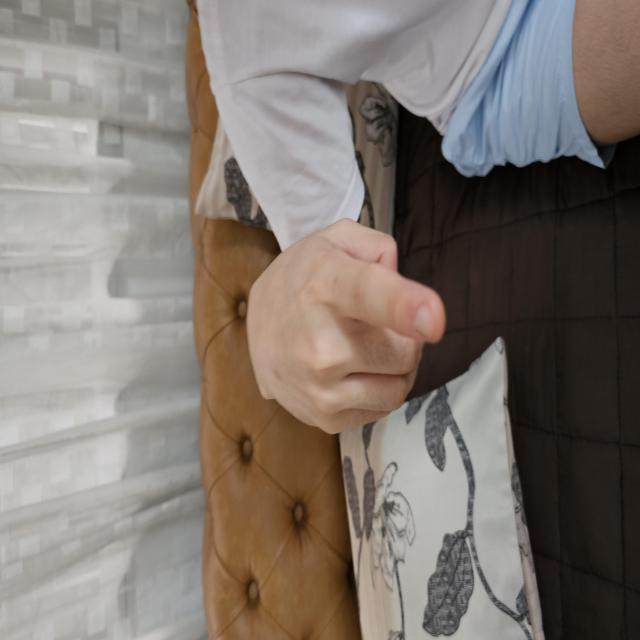Z: (244, 220, 464, 424)
